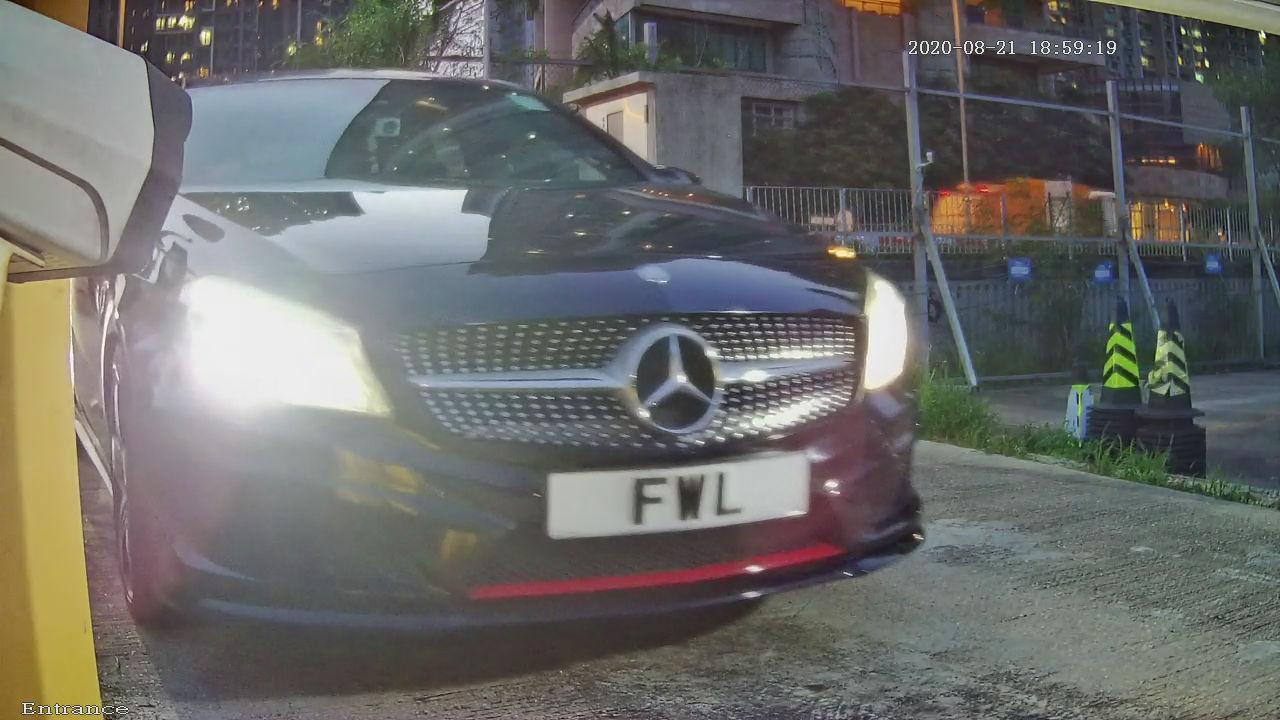Car: (23, 10, 1000, 672)
License Plate: (555, 457, 806, 541)
